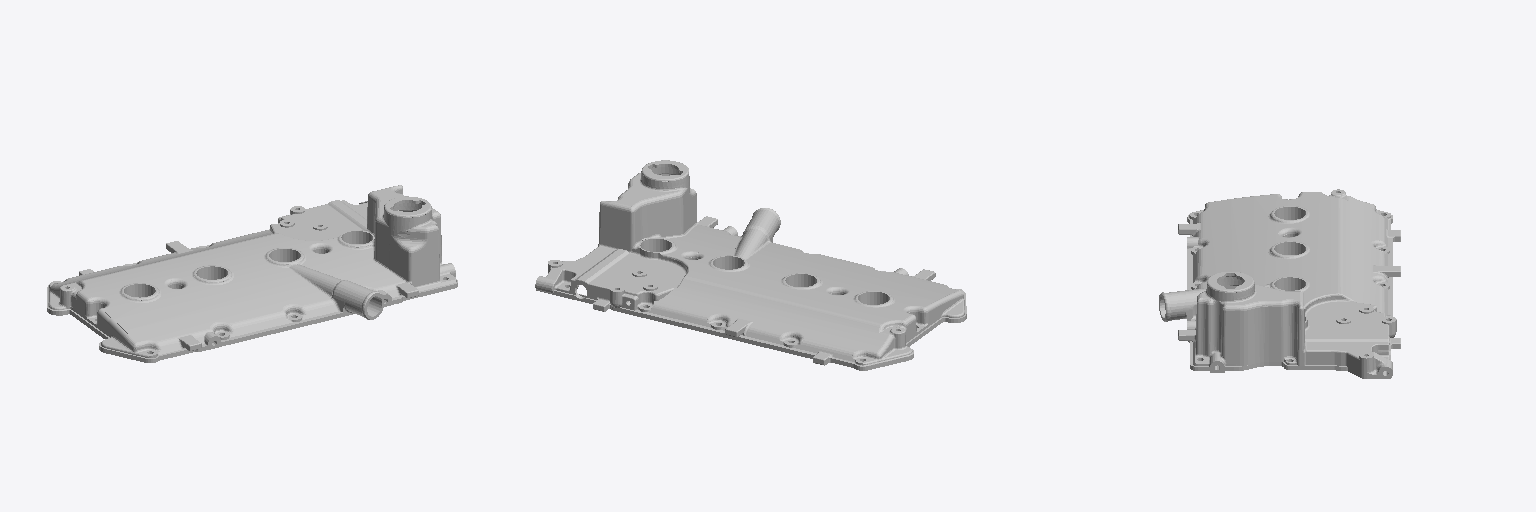
File: Крышка головки цилиндров.obj
3 renders of one model, left to right at view 1: azimuth 30°, elevation 25°; view 2: azimuth 150°, elevation 25°; view 3: azimuth 270°, elevation 25°, orthographic.
Visible parts, largest first — view 1: Крышка_головки_цилиндров; view 2: Крышка_головки_цилиндров; view 3: Крышка_головки_цилиндров.
Part boxes in pixels (left/top/right/bottom): Крышка_головки_цилиндров: left=47, top=185, right=457, bottom=362; Крышка_головки_цилиндров: left=535, top=160, right=966, bottom=370; Крышка_головки_цилиндров: left=1159, top=189, right=1400, bottom=378.
Bounding box in the file's own units: 432 × 87 × 258.